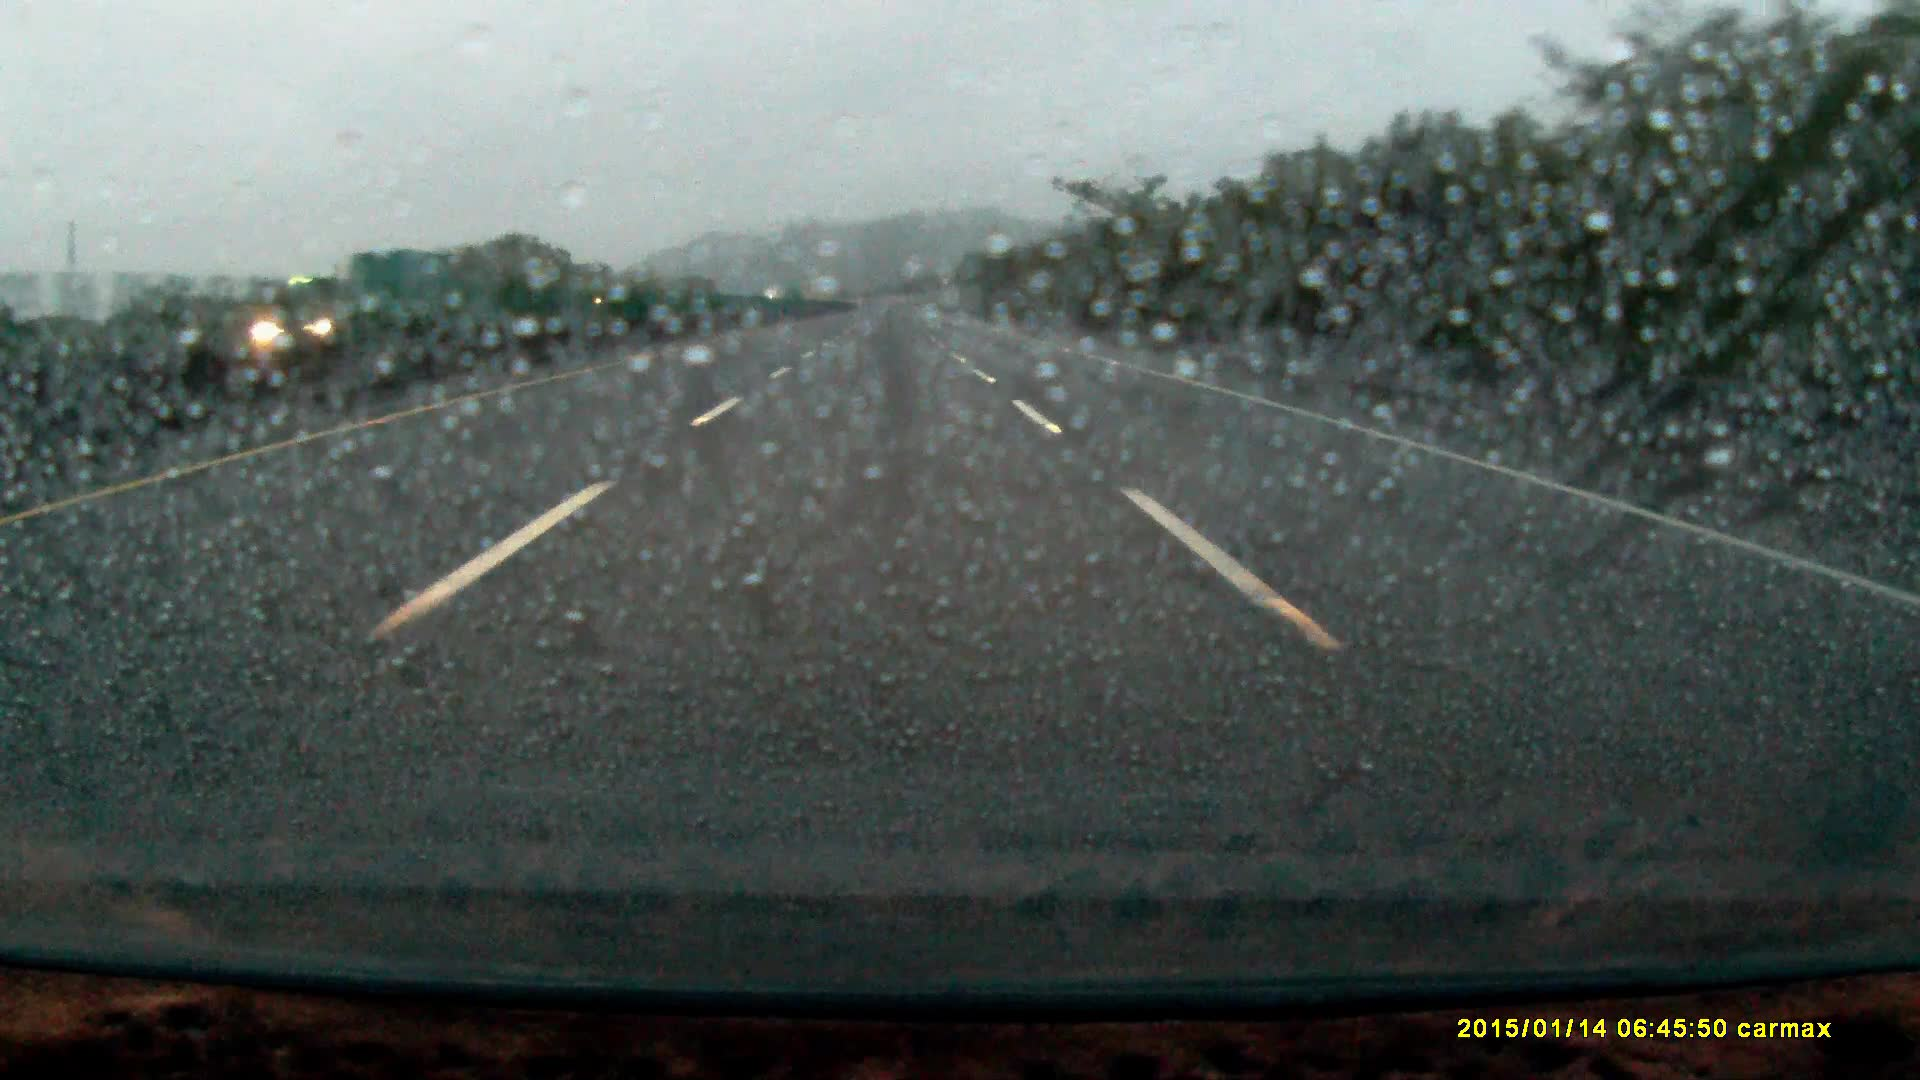vehicle: (241, 249, 454, 353)
